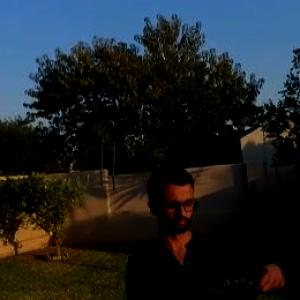follow: (121, 158, 292, 299)
